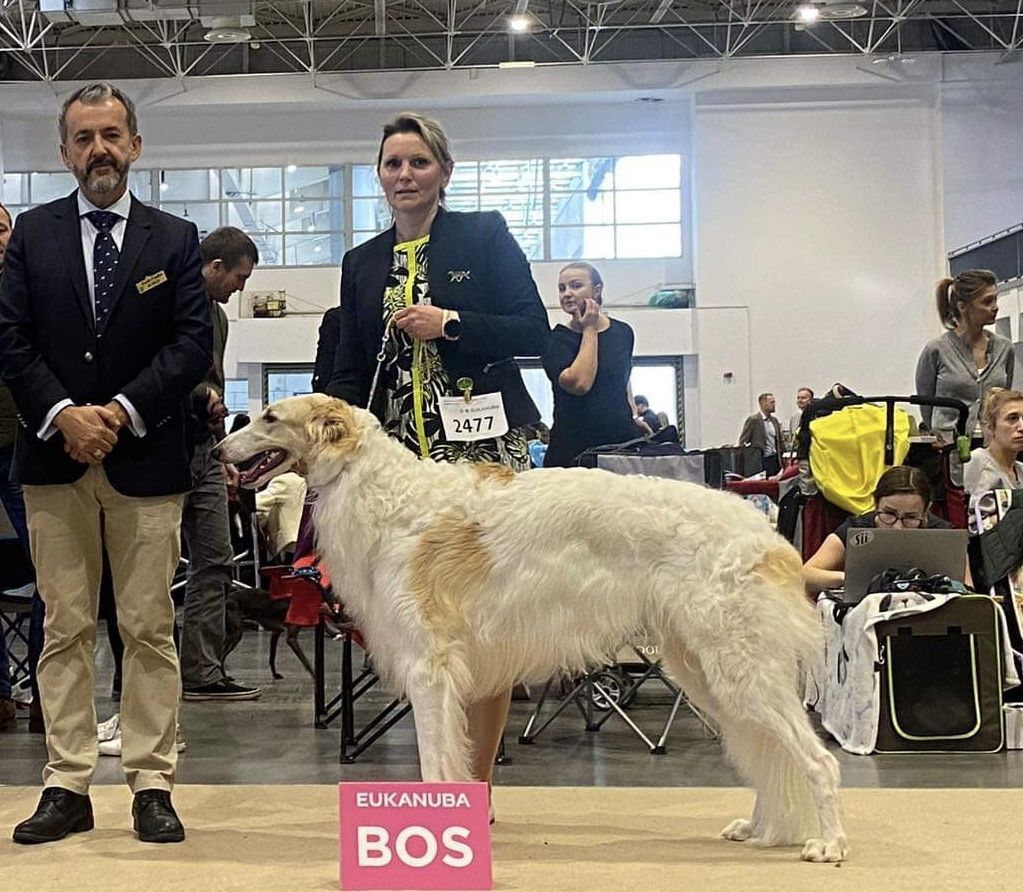borzoi: (211, 388, 860, 868)
